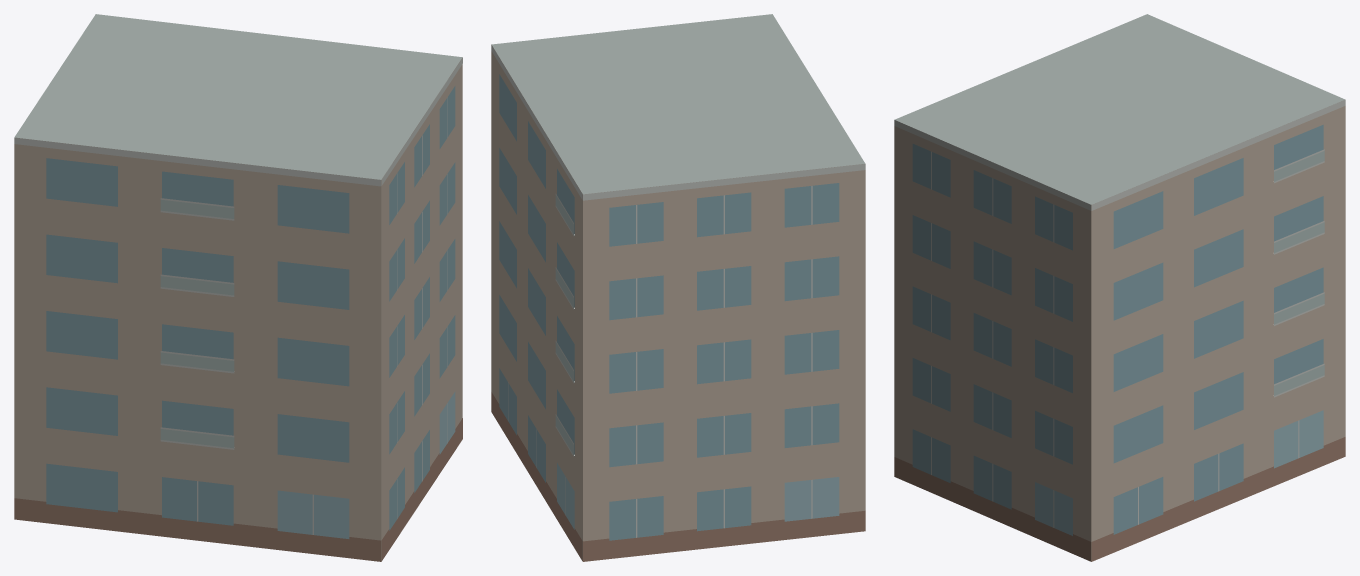
Rendered from survey-upis-32882486.glb.
3 views of the same model, side by side, from view 1: azimuth 30°, elevation 25°; view 2: azimuth 150°, elevation 25°; view 3: azimuth 270°, elevation 25° (orthographic). The views are drawn at different scales.
Visible parts, largest first — view 1: survey-upis-32882486.tmp; view 2: survey-upis-32882486.tmp; view 3: survey-upis-32882486.tmp.
Boxes of the visible parts, x1=… form: survey-upis-32882486.tmp: x1=14, y1=14, x2=462, y2=561; survey-upis-32882486.tmp: x1=491, y1=14, x2=865, y2=561; survey-upis-32882486.tmp: x1=894, y1=14, x2=1345, y2=561.
Bounding box in the file's own units: 16.29 × 14.2 × 16.27.
